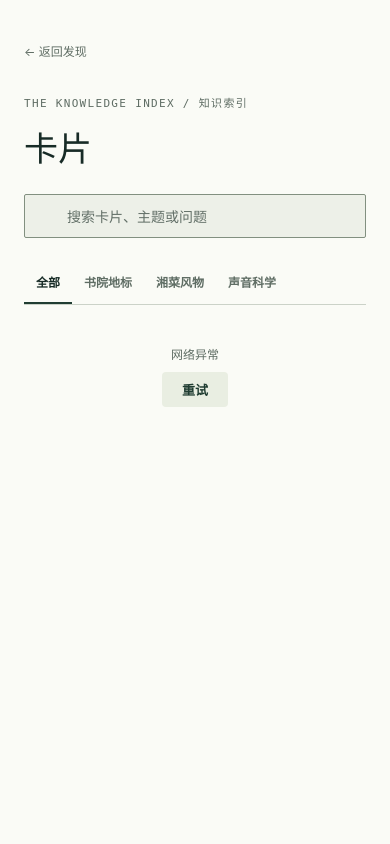
CardsView(/cards 列表页) › 首屏失败:错误文案 + 重试按钮,点击恢复渲染
Step 1. Click the button with class "retry" → [195, 390], box [162,372,228,407]
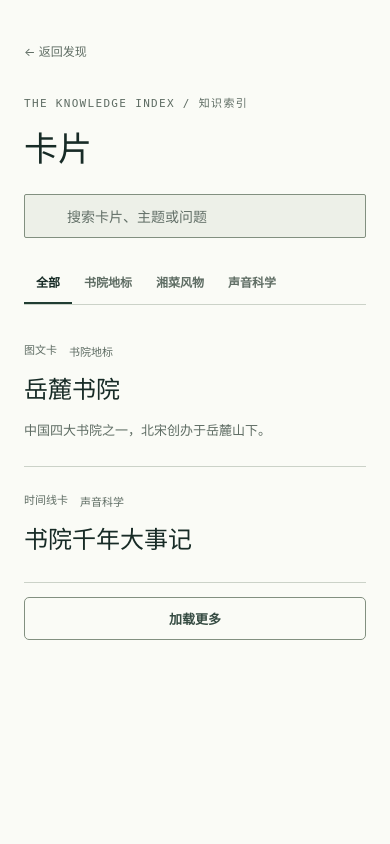
Now the number of buttons with class "cardrow" is 2, box [24,317,366,468]; [24,468,366,583]
